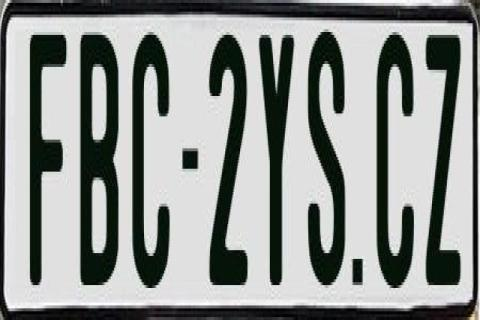0: (207, 32, 251, 282)
B: (78, 29, 121, 294)
C: (132, 26, 176, 300), (374, 29, 416, 299)
F: (30, 35, 68, 297)
S: (308, 32, 344, 288)
Y: (259, 32, 294, 282)
Z: (425, 32, 462, 285)
